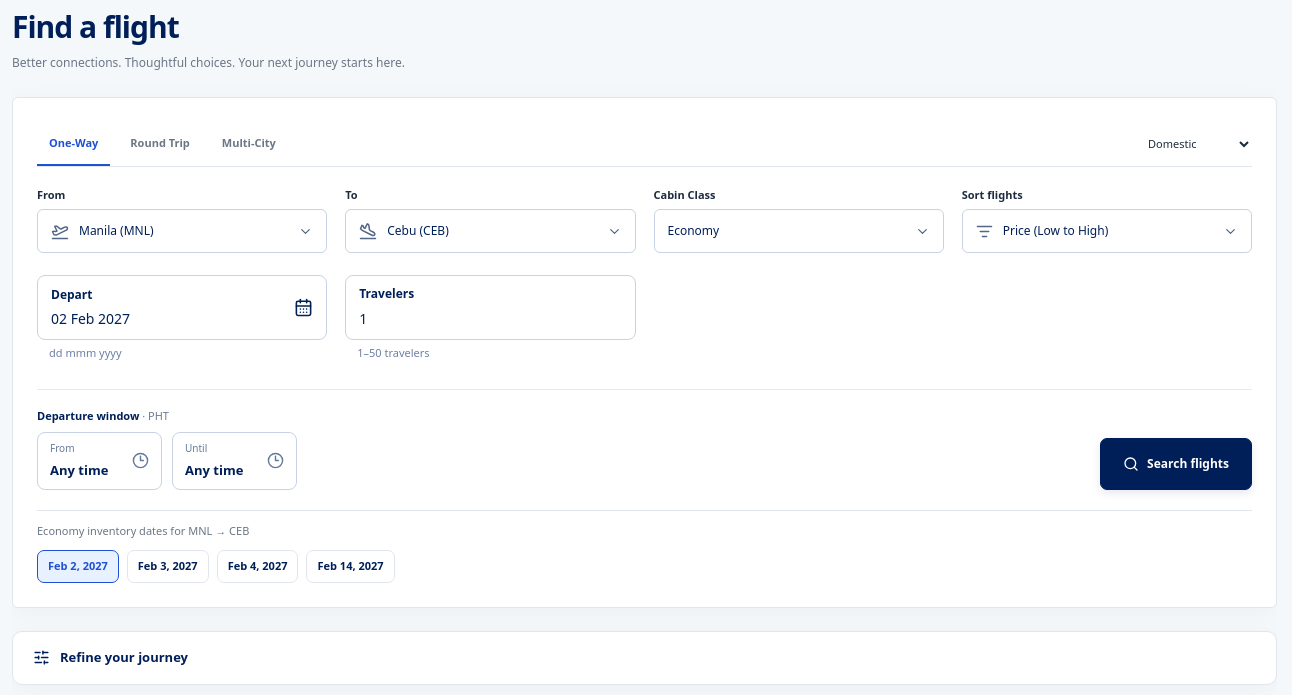
Find a flight page with seeded Supabase inventory › filters unavailable cabins through the new accessible menu
Click the dropdown named "Cabin Class" at (693, 230), box [654, 209, 944, 253]
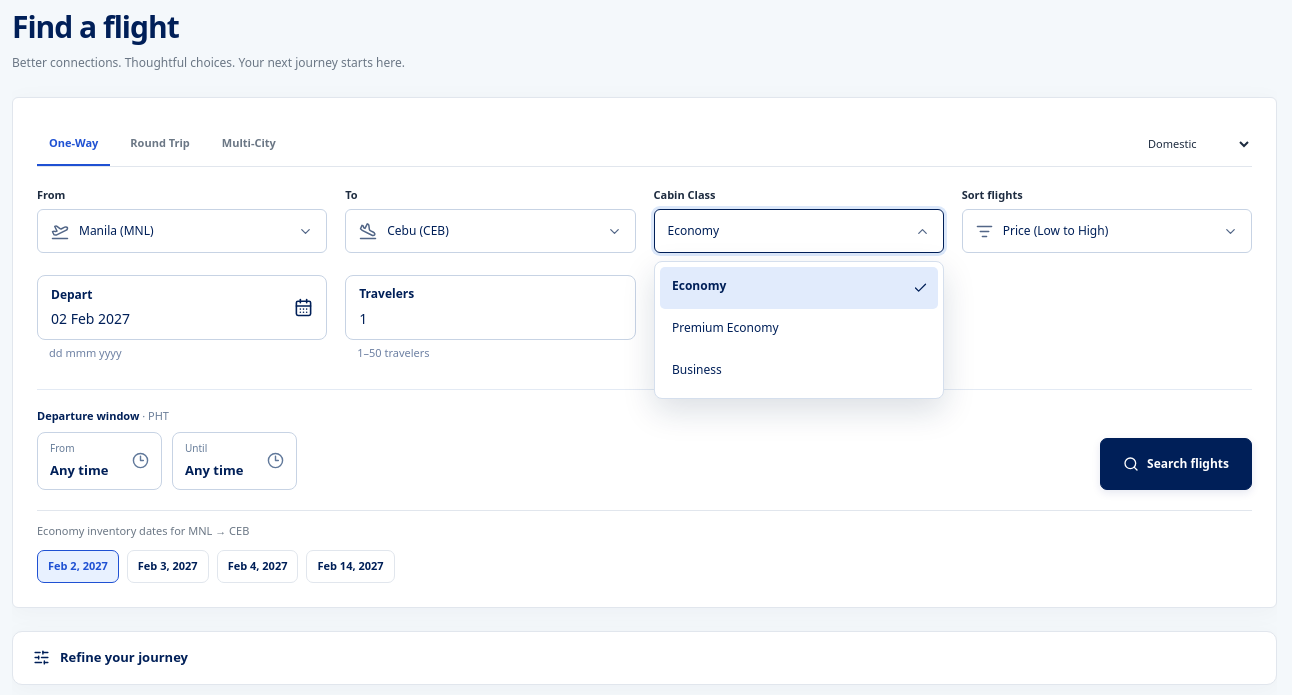
Click the option "Business" at (697, 370), box [672, 361, 722, 378]
(page scrolled)
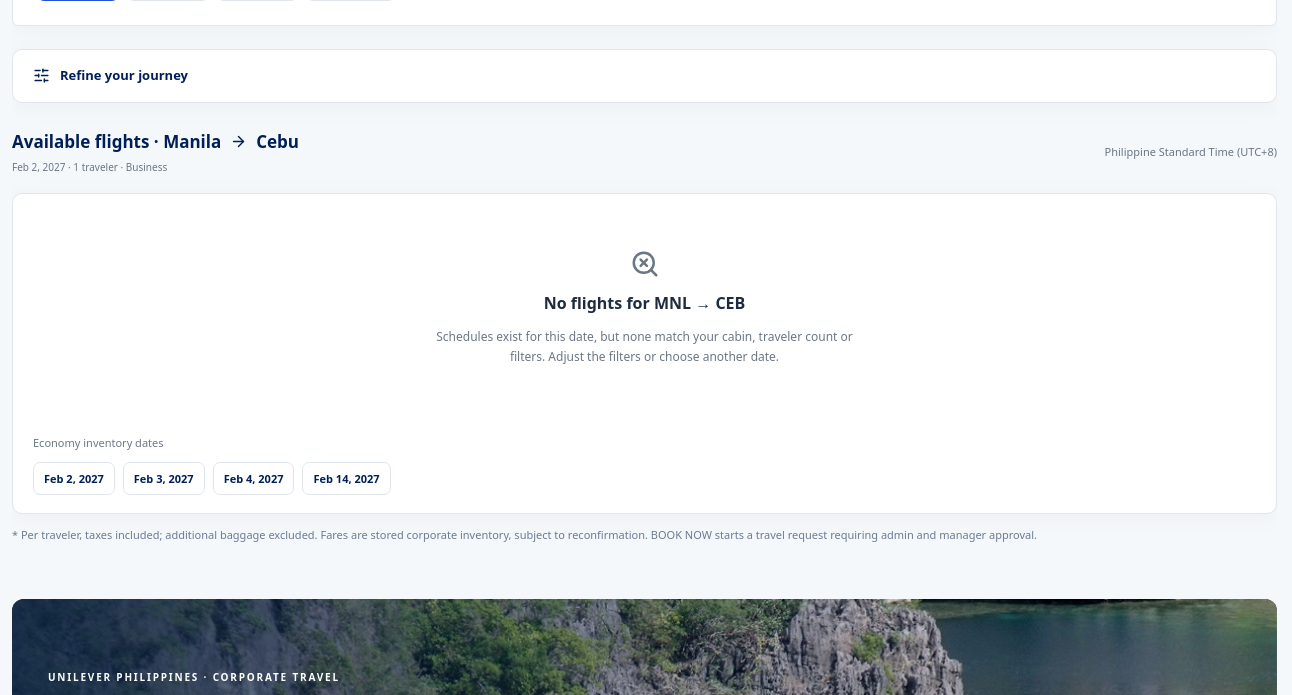
Result: the heading "No flights for MNL → CEB" is shown at [544, 291, 745, 315]
Result: the text "Schedules exist for this date" is shown at [436, 328, 853, 365]
